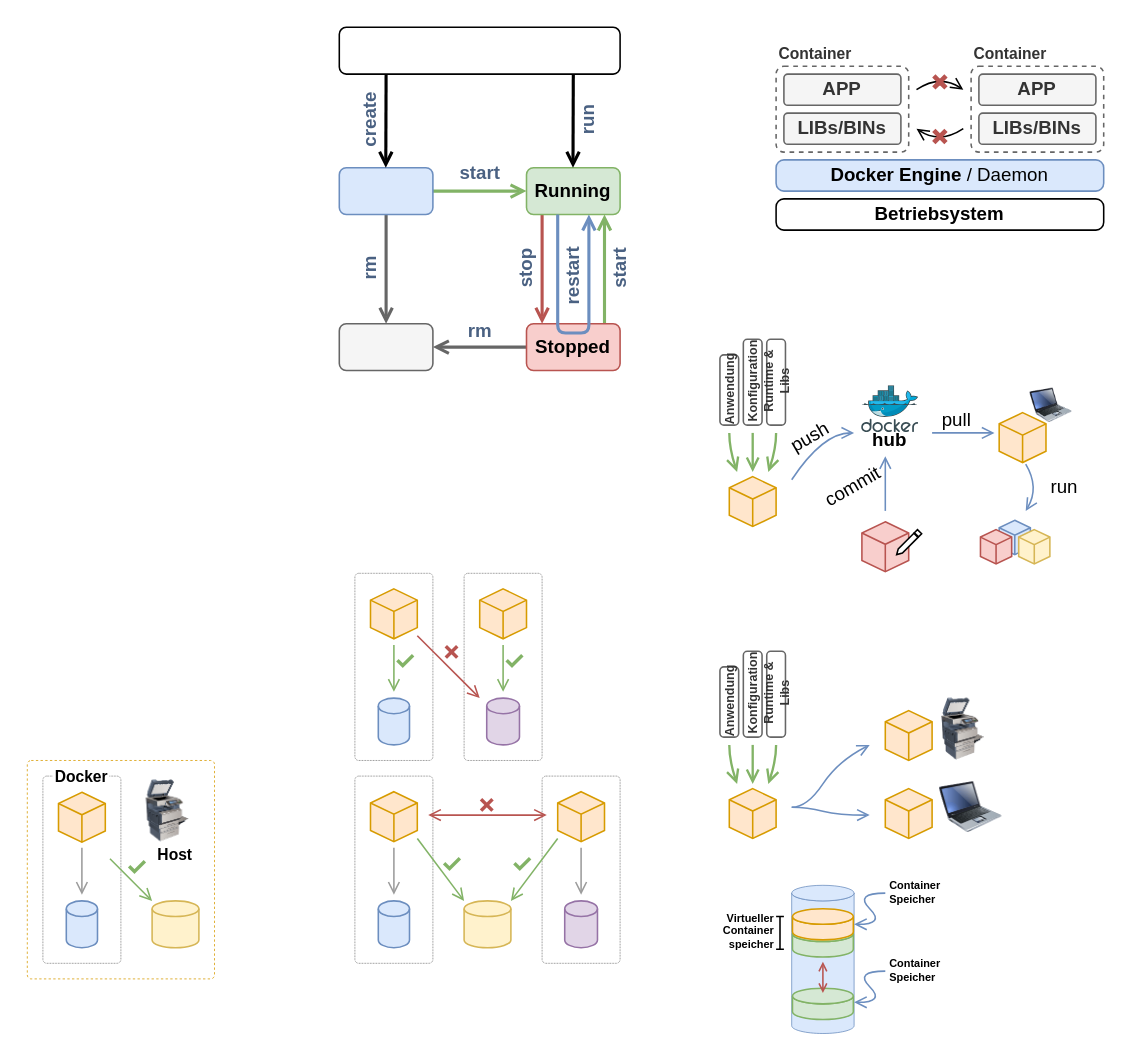
Some shapes in this 1131 by 1061 pixel diagram are drawn without their labels. Each missing label, with the centre of its shape:
Created: the point at 385,190
Deleted: the point at 385,346
Docker Kommando docker...: the point at 479,50
